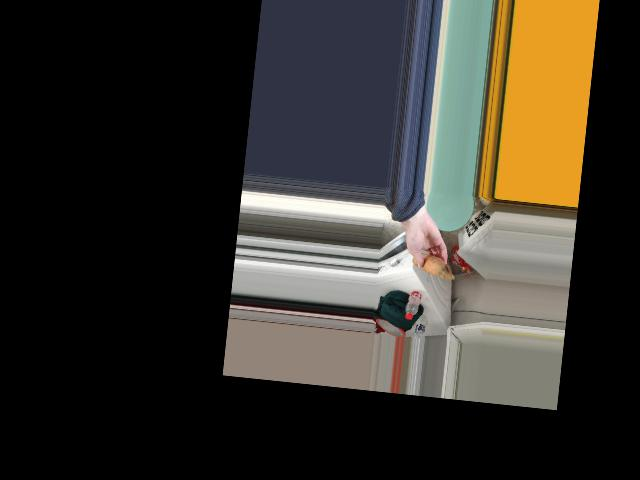sweet_potato: (415, 254, 444, 276)
